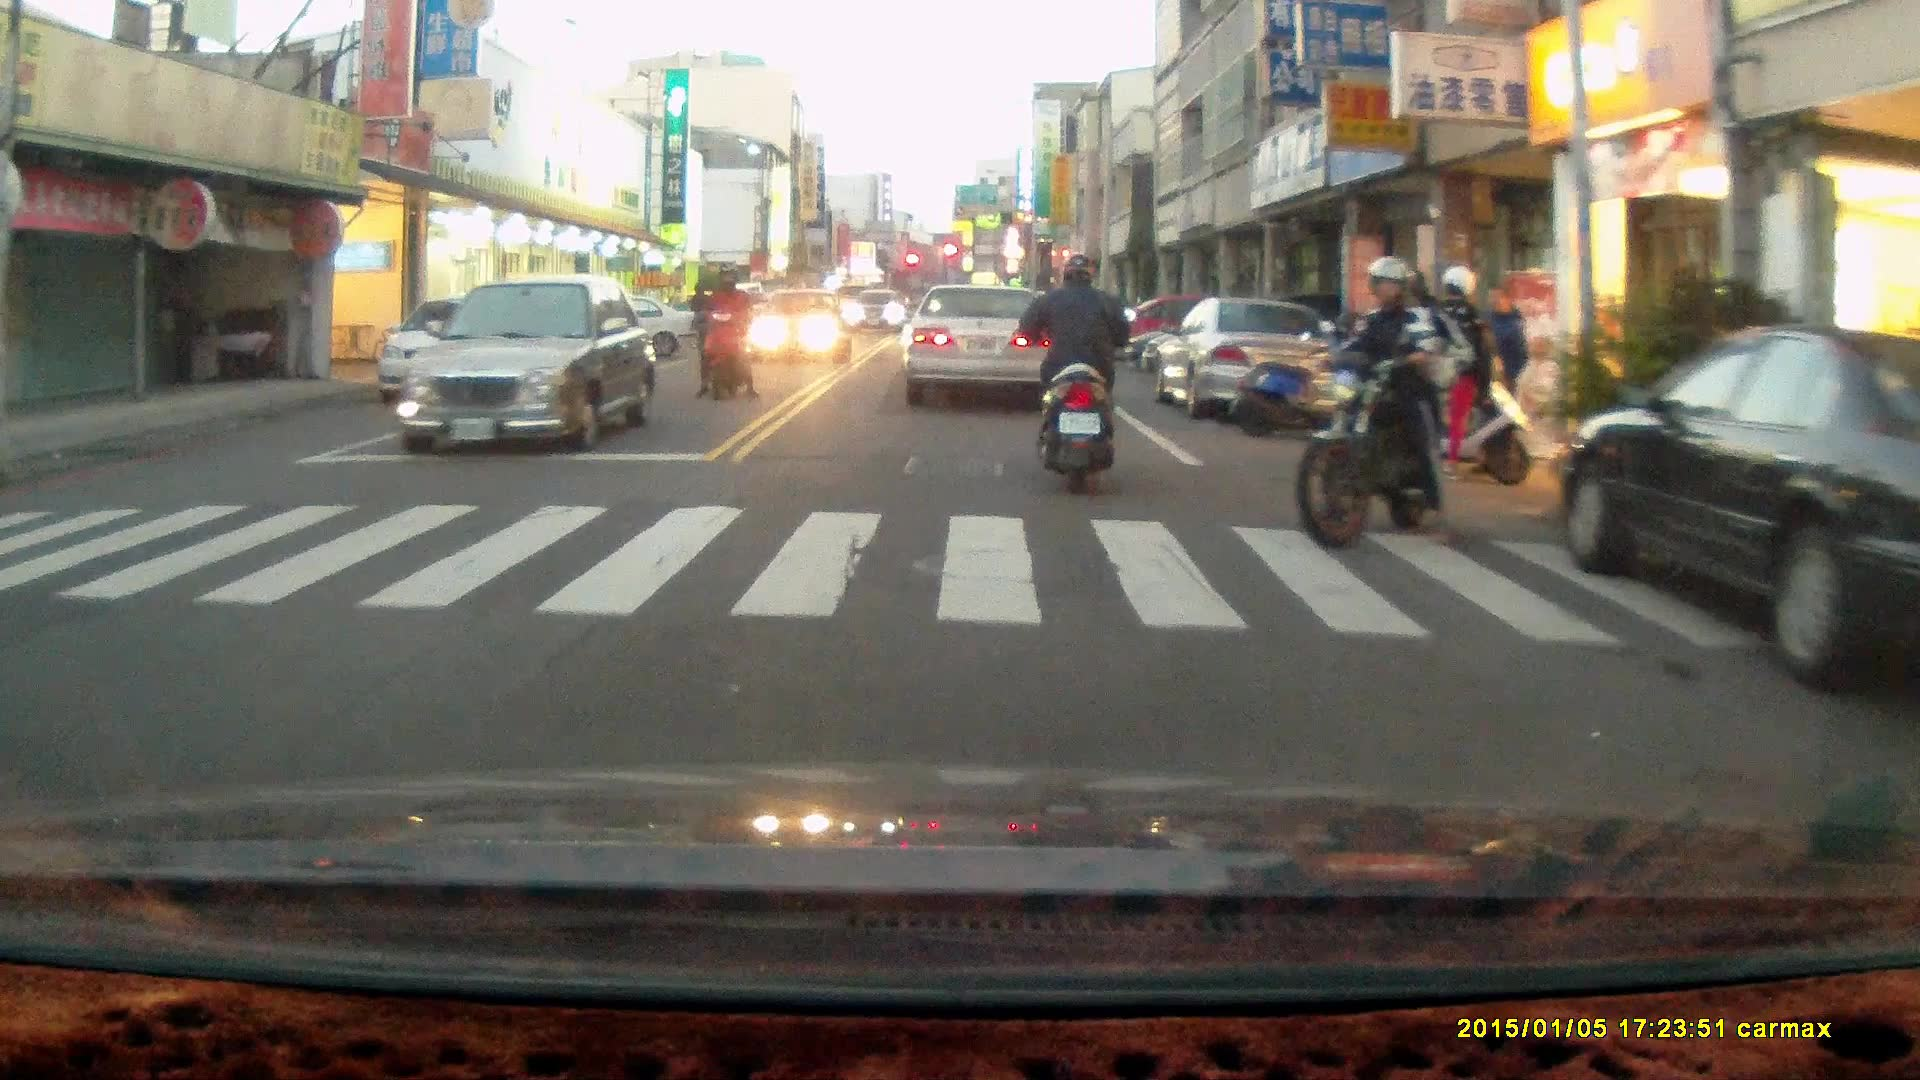pedestrian: (1423, 266, 1488, 478), (1478, 282, 1527, 455), (687, 284, 714, 359)
rider: (1294, 254, 1497, 549), (1017, 252, 1134, 496), (693, 260, 758, 404)
vehicle: (1560, 322, 1920, 704), (403, 276, 660, 459), (1155, 302, 1343, 425), (377, 290, 539, 412), (903, 287, 1058, 411), (741, 287, 847, 367)
